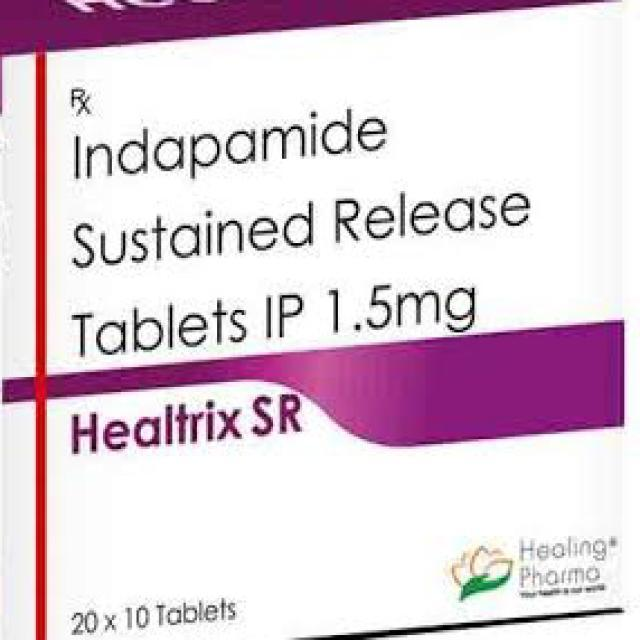drug-name: (67, 389, 307, 463)
